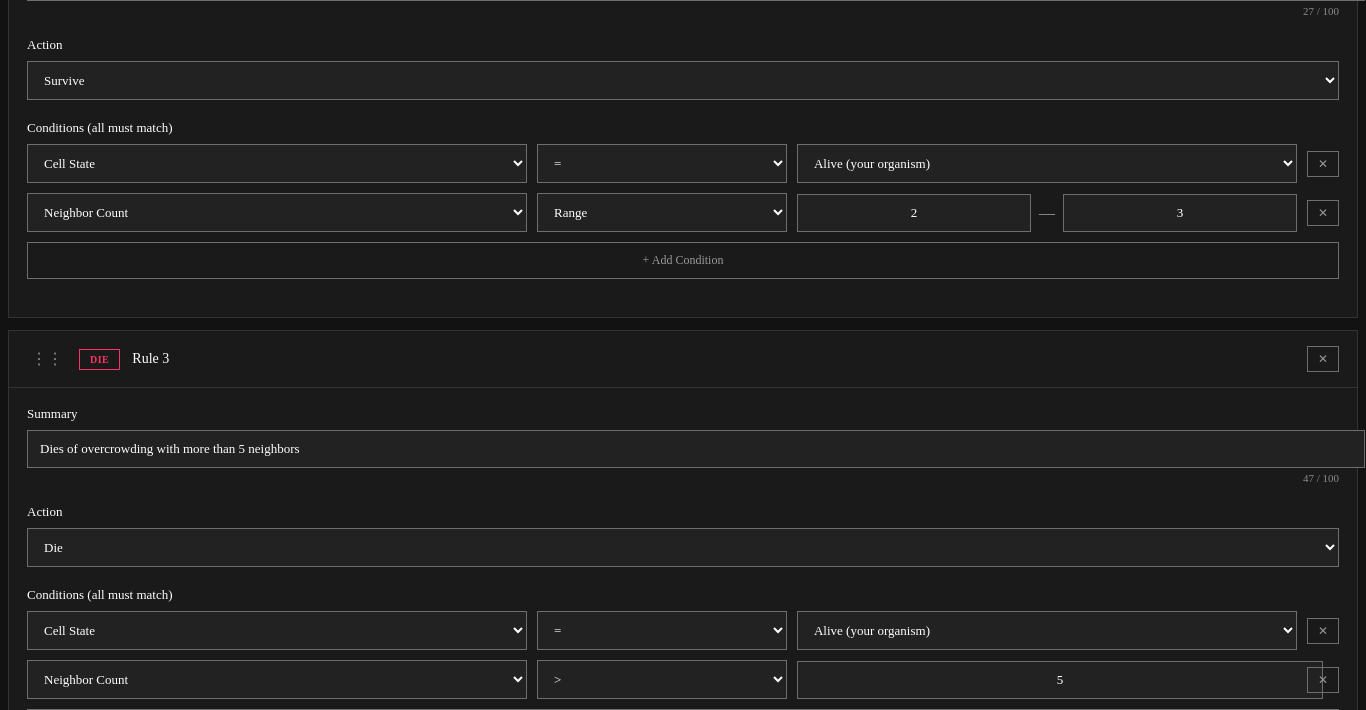
Scenario: RulesEditor › deleting the last focuses the new last card Summary
(page scrolled)
Click the button named "Delete rule 3" at (1323, 359), box [1307,346,1339,372]
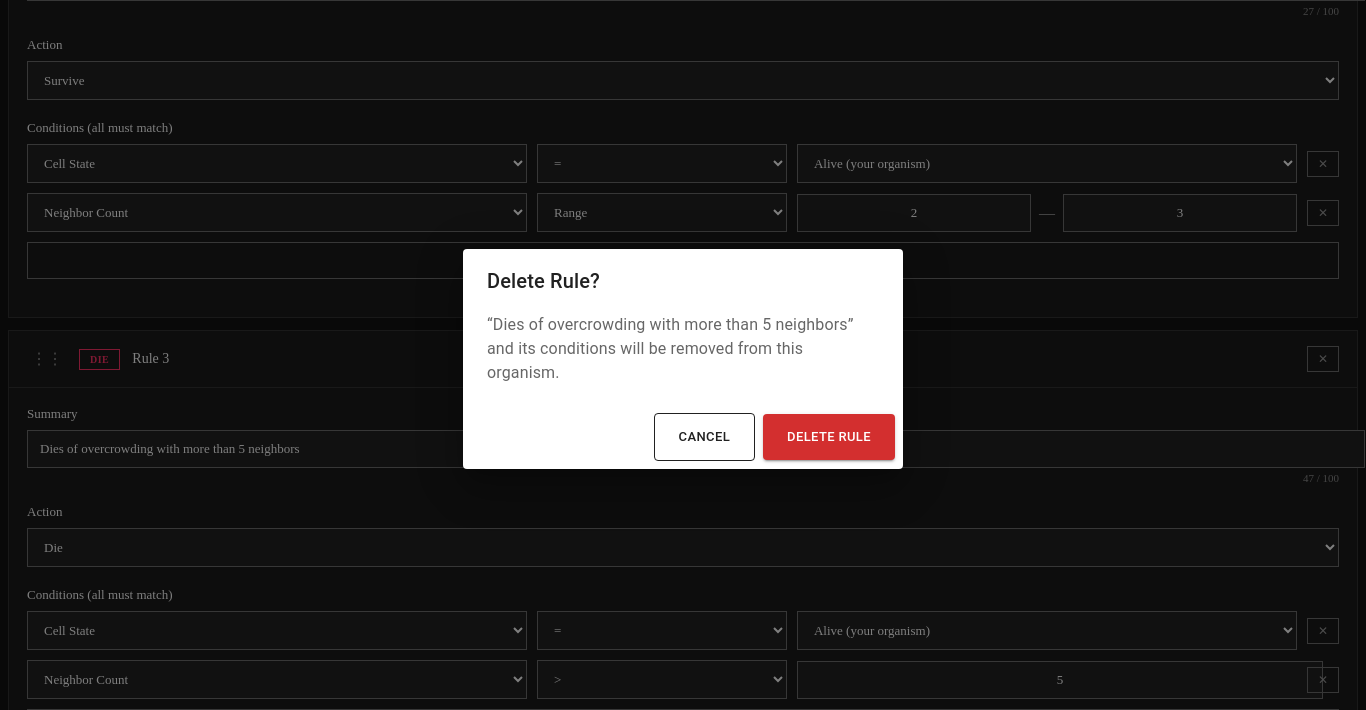
Click the button "Delete Rule" at (829, 437), box [763,414,895,460]
(page scrolled)
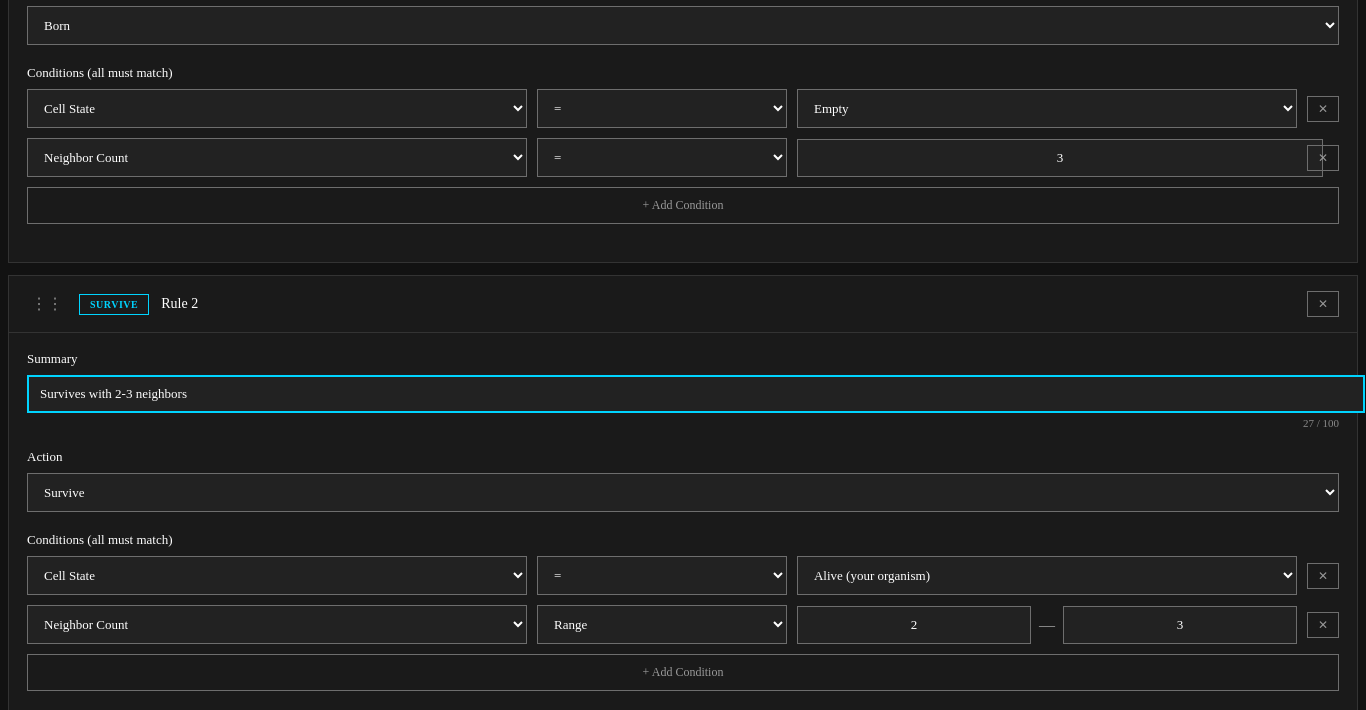
Check: the heading "Delete Rule?" is gone
